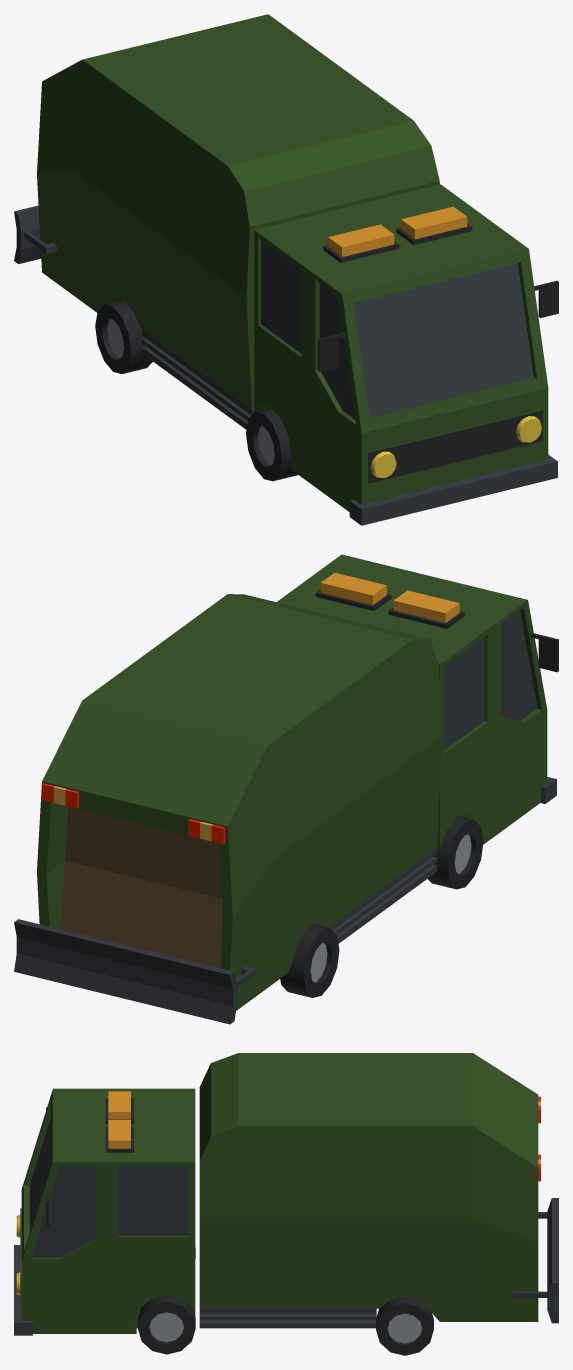
File: Garbage Truck_1.fbx
3 views of the same model, one above another, from view 1: azimuth 30°, elevation 25°; view 2: azimuth 150°, elevation 25°; view 3: azimuth 270°, elevation 25° (orthographic). The views are drawn at different scales.
Visible parts, largest first — view 1: Garbage Truck_1; view 2: Garbage Truck_1; view 3: Garbage Truck_1.
Boxes of the visible parts, x1,y1,x2,y2 form: Garbage Truck_1: (14, 14, 558, 525); Garbage Truck_1: (14, 554, 558, 1024); Garbage Truck_1: (14, 1053, 558, 1355).
Bounding box in the file's own units: 327 × 364 × 799.
